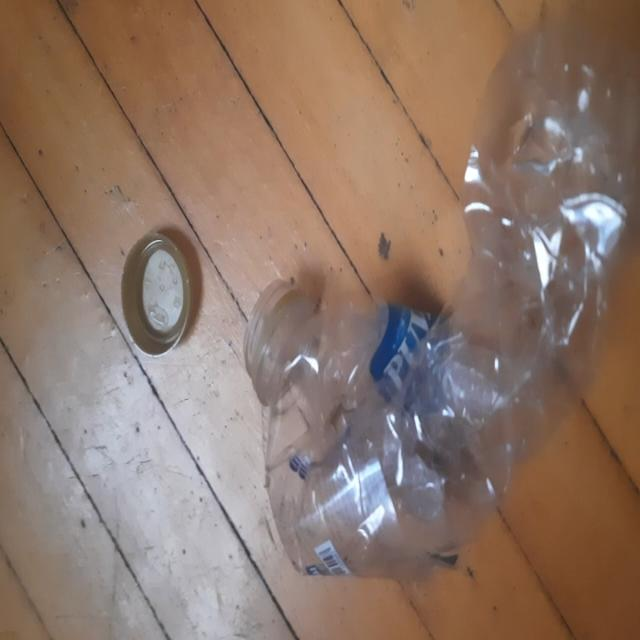Plastic: (251, 4, 637, 580)
